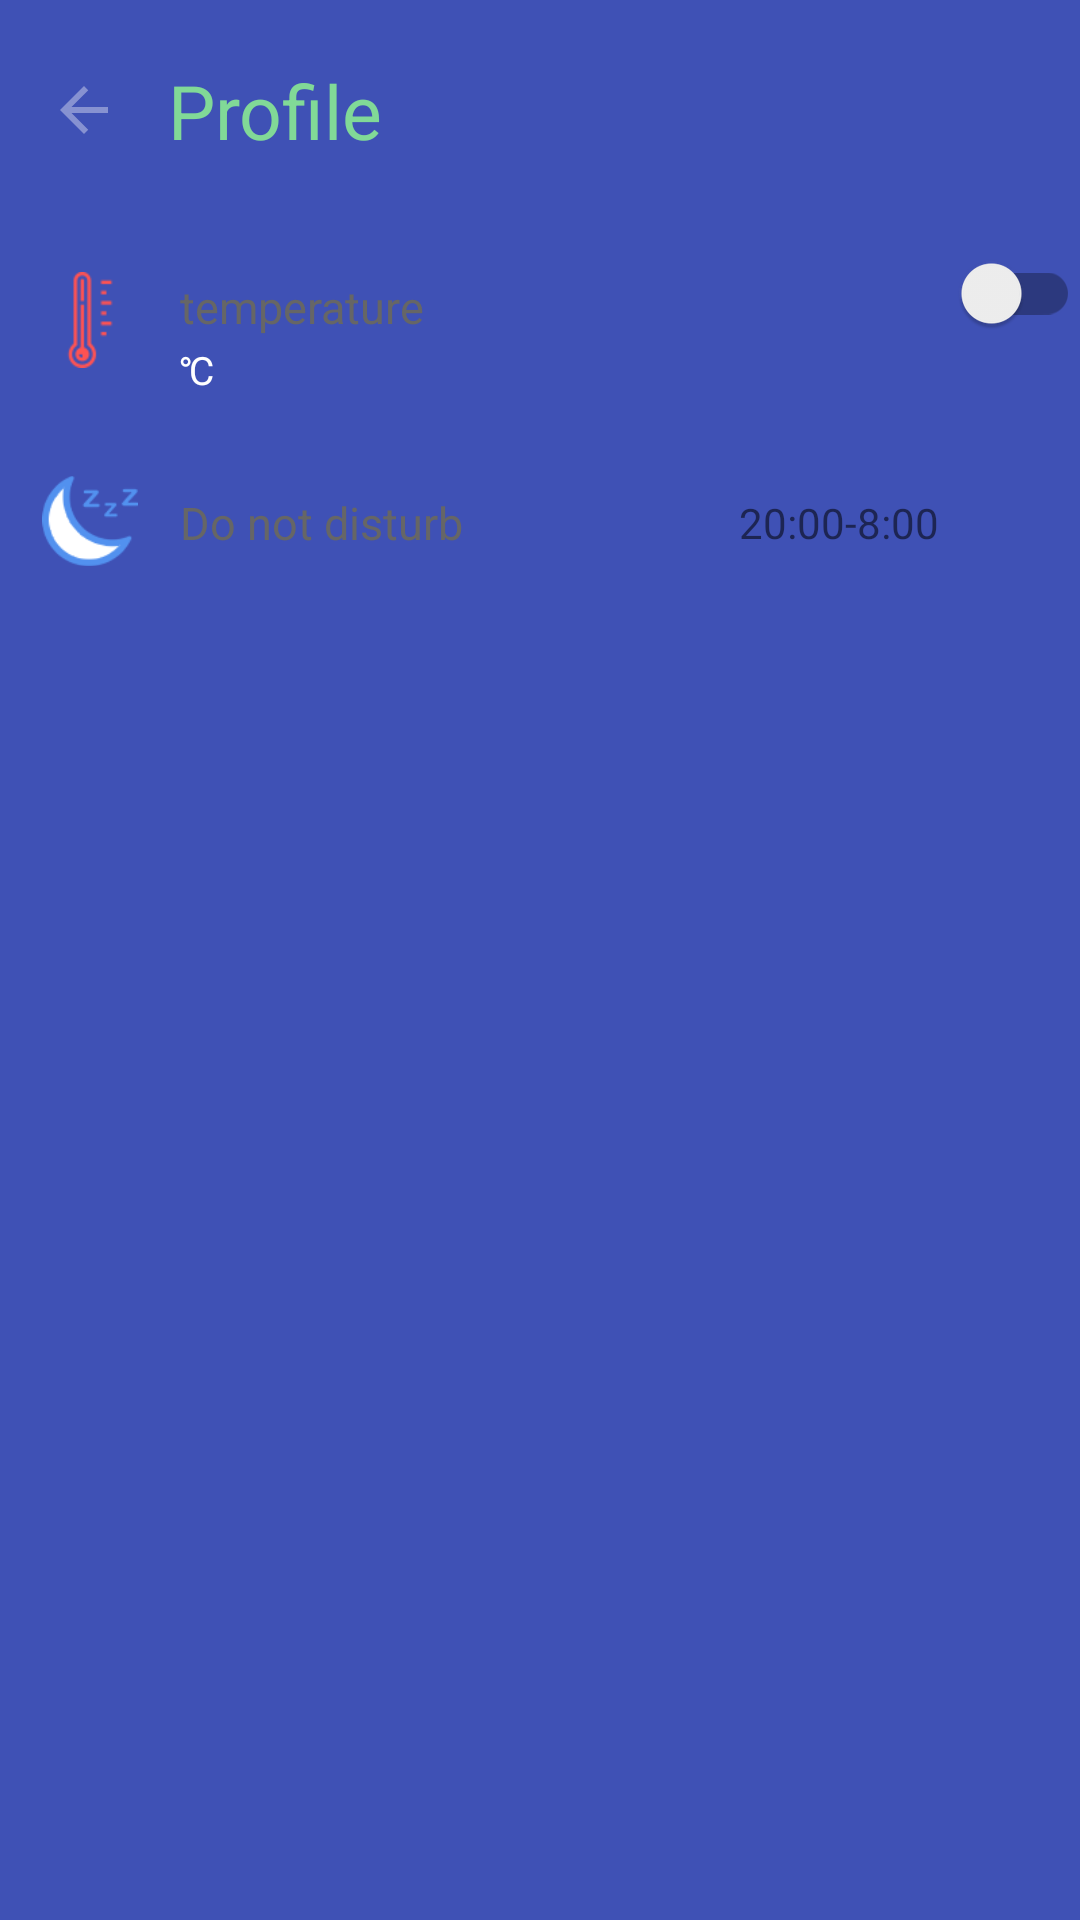

Point at icon controls on the screen. Image size 1080*1920, points as (x,y).
back: (84,110)
moon: (90,521)
